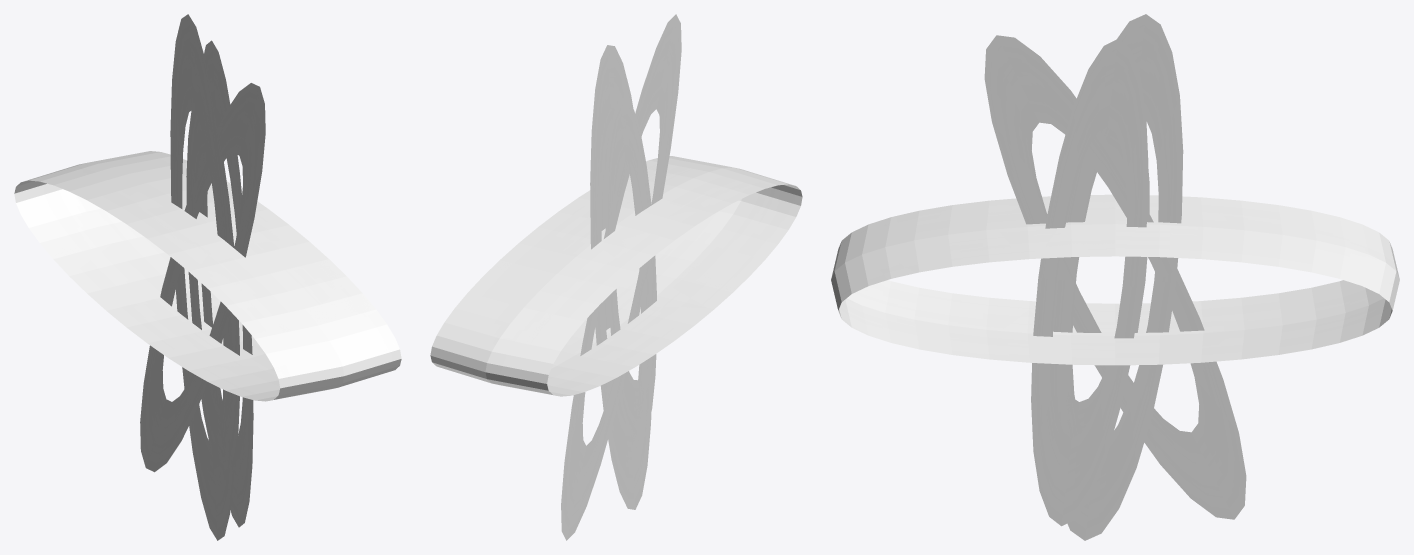
Rendered from proj_plt_chase.fbx.
3 renders of one model, left to right at view 1: azimuth 30°, elevation 25°; view 2: azimuth 150°, elevation 25°; view 3: azimuth 270°, elevation 25°, orthographic. The views are drawn at different scales.
Parts seen in each view (by area): view 1: ring_1, ring_2, circle_2, circle, circle (2), circle (1); view 2: ring_1, ring_2, circle_2, circle, circle (2), circle (1); view 3: ring_2, ring_1, circle_2, circle (1), circle, circle (2).
Part boxes in pixels (box(x1,y1,x2,y2)): ring_1: box(14, 154, 401, 401); ring_2: box(14, 151, 401, 400); circle_2: box(140, 83, 265, 472); circle: box(170, 14, 234, 540); circle (2): box(186, 91, 239, 479); circle (1): box(199, 40, 253, 527); ring_1: box(430, 156, 802, 396); ring_2: box(430, 157, 802, 395); circle_2: box(561, 14, 681, 540); circle: box(590, 45, 651, 509); circle (2): box(605, 98, 656, 441); circle (1): box(601, 134, 640, 425); ring_2: box(831, 206, 1399, 365); ring_1: box(831, 194, 1399, 359); circle_2: box(984, 35, 1246, 519); circle (1): box(1031, 39, 1148, 526); circle: box(1052, 14, 1183, 540); circle (2): box(1057, 128, 1149, 435).
Size of the model in its own units: 0.6 by 2.39 by 2.34.
Materials: 2 (2 with a texture image).
